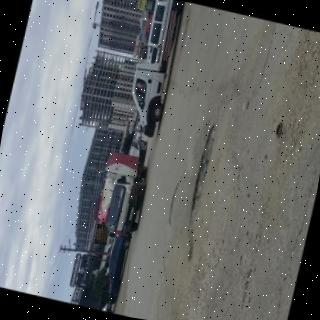pothole: (190, 124, 215, 216)
